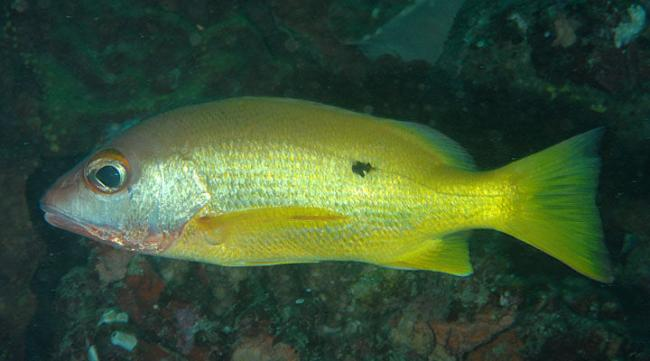fish: (39, 96, 616, 285)
